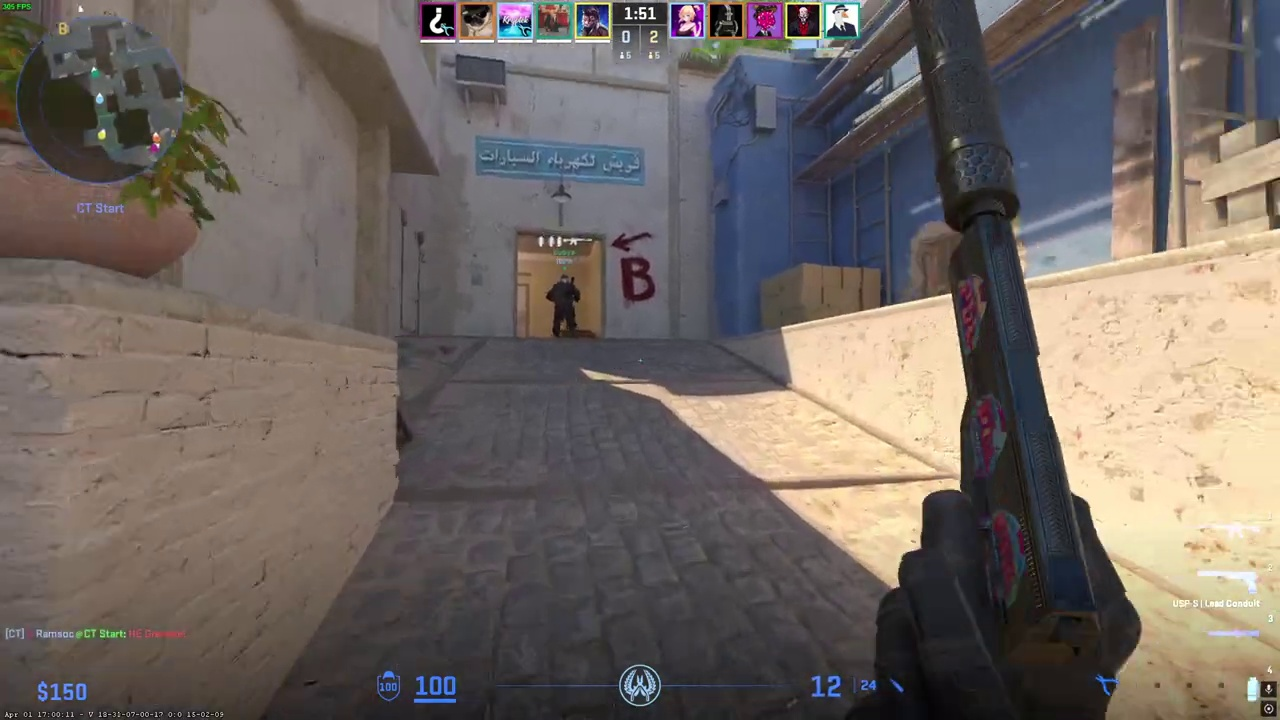CT: (549, 275, 579, 337)
